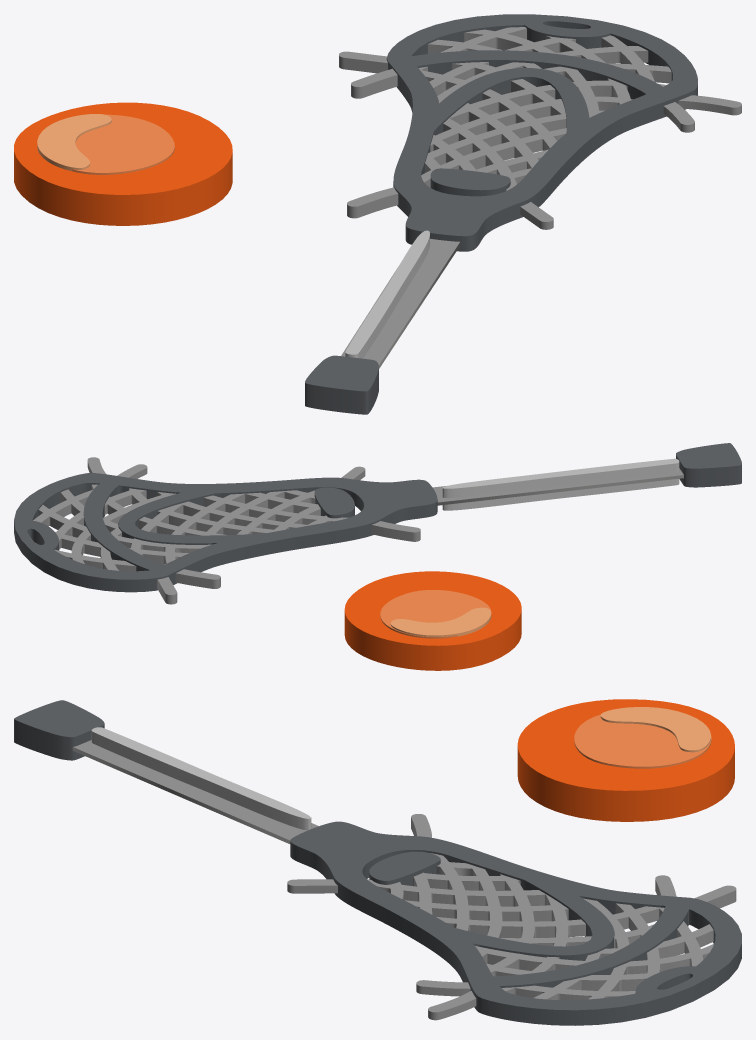
File: emoji_u1f94d.glb
3 views of the same model, one above another, from view 1: azimuth 30°, elevation 25°; view 2: azimuth 150°, elevation 25°; view 3: azimuth 270°, elevation 25° (orthographic). The views are drawn at different scales.
Visible parts, largest first — view 1: emoji_u1f94d; view 2: emoji_u1f94d; view 3: emoji_u1f94d.
Boxes of the visible parts, x1,y1,x2,y2 form: emoji_u1f94d: (14, 14, 741, 414); emoji_u1f94d: (14, 443, 741, 670); emoji_u1f94d: (14, 699, 741, 1025).
Size of the model in its own units: 0.0338 by 0.002 by 0.0339.
